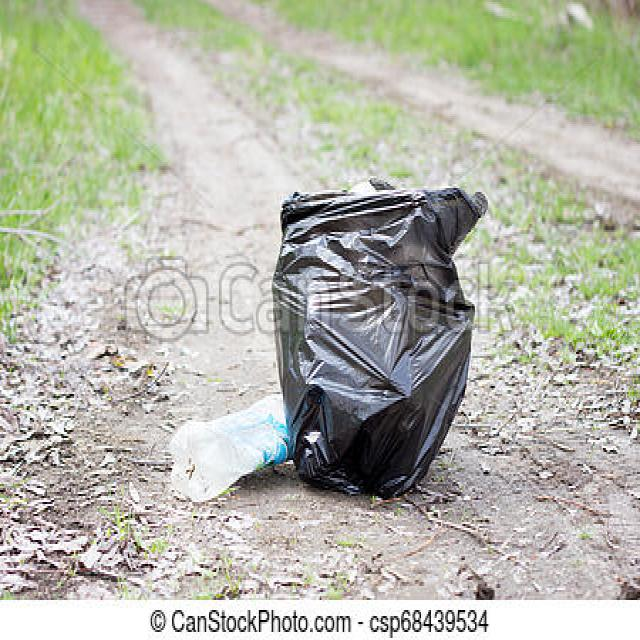plastic_bag: (273, 189, 488, 475)
